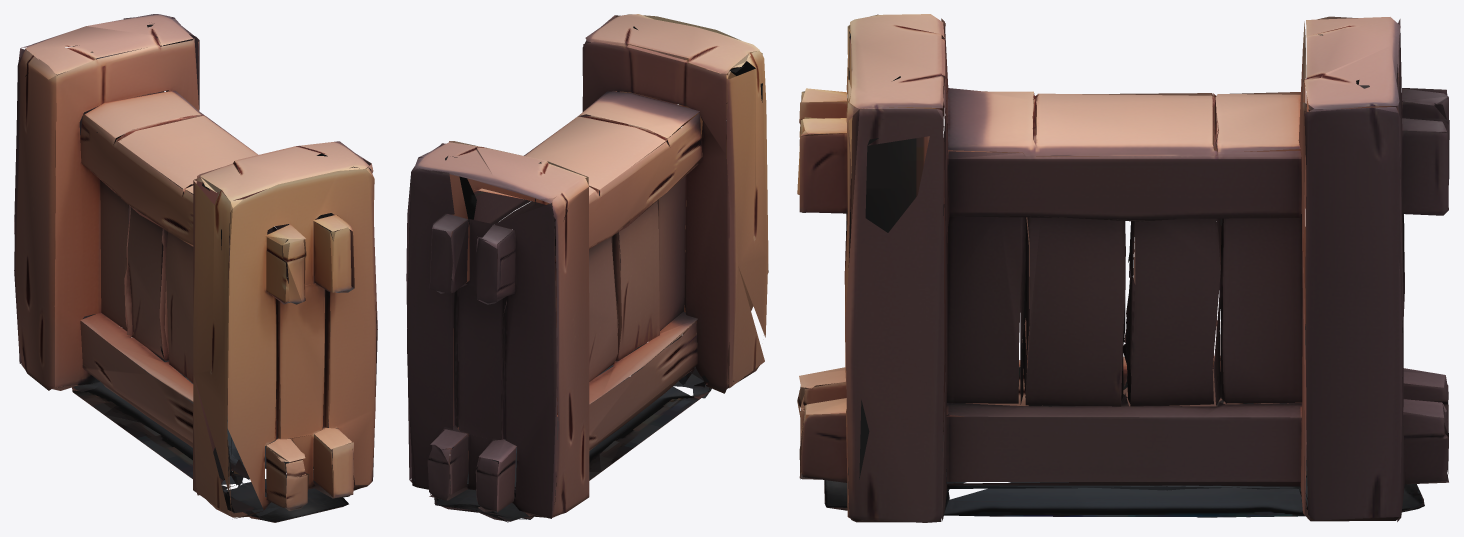
The model's file is wall_segment.fbx.
The picture shows the model from 3 angles, left to right: view 1: azimuth 30°, elevation 25°; view 2: azimuth 150°, elevation 25°; view 3: azimuth 270°, elevation 25°; orthographic projection. The views are drawn at different scales.
Parts seen in each view (by area): view 1: wall_segment; view 2: wall_segment; view 3: wall_segment.
Boxes of the visible parts, box(x1,y1,x2,y2) form: wall_segment: box(14, 14, 377, 522); wall_segment: box(406, 14, 768, 522); wall_segment: box(797, 14, 1449, 522).
Size of the model in its own units: 0.7049 by 1.49 by 2.
Materials: 1 (1 with a texture image).
